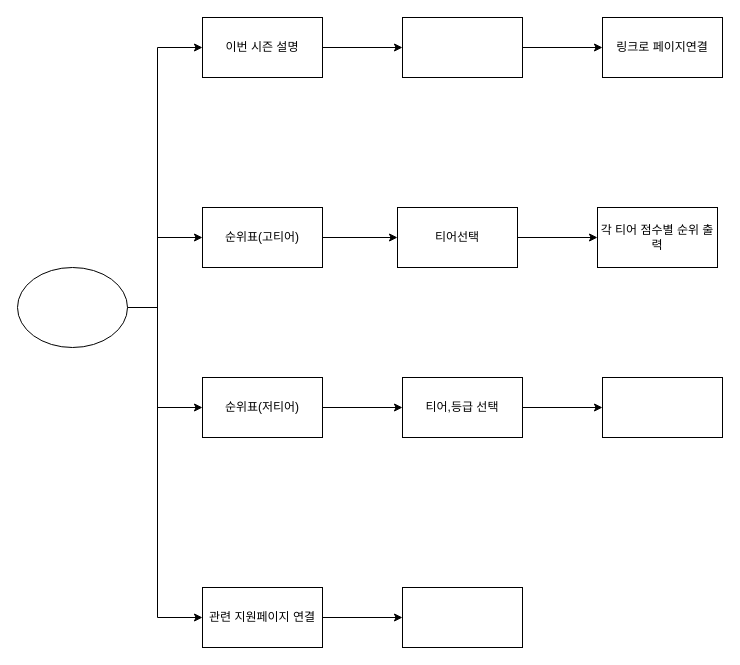
Some shapes in this 740 by 665 pixel diagram are drawn without their labels. Here are the shapes that lost their labels. From the top down, the centre of each, then its label:
the point at 462,47: 반응형 웹페이지
the point at 72,307: 메인 페이지 (각 페이지 링크)
the point at 662,407: 각 티어별 점수 순위 출력
the point at 462,617: 링크로 페이지 연결
